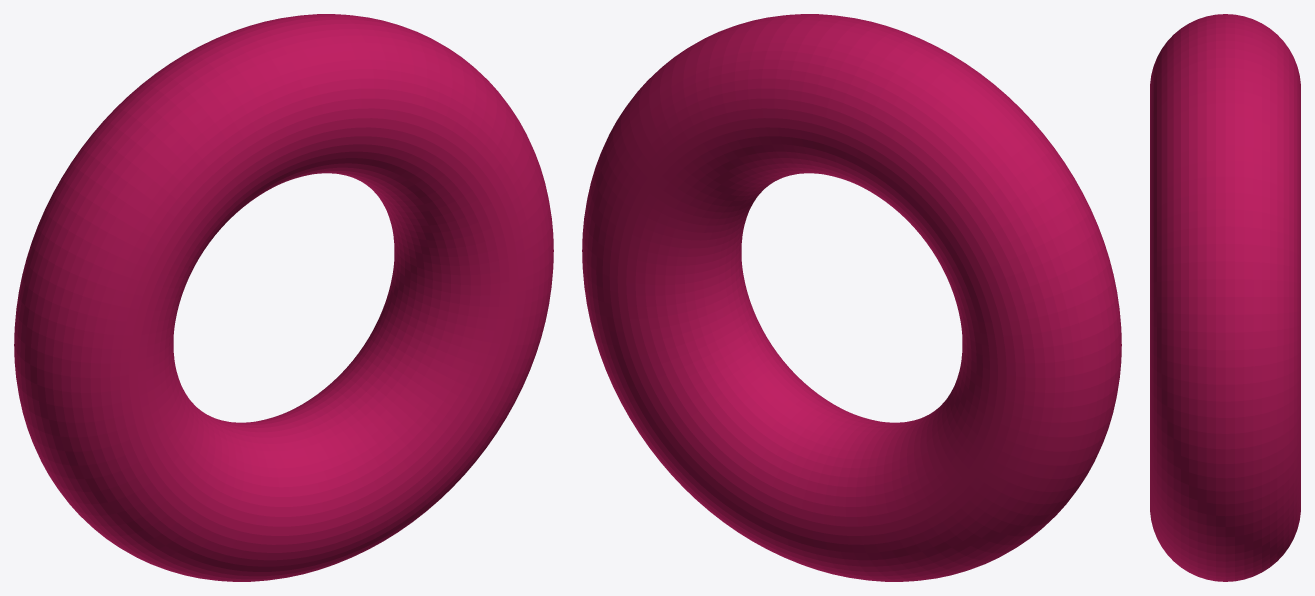
3 renders of one model, left to right at view 1: azimuth 30°, elevation 25°; view 2: azimuth 150°, elevation 25°; view 3: azimuth 270°, elevation 25°, orthographic. The views are drawn at different scales.
Visible parts, largest first — view 1: world; view 2: world; view 3: world.
Boxes of the visible parts, x1,y1,x2,y2 form: world: (14,14,553,581); world: (582,14,1121,581); world: (1150,14,1300,581).
Size of the model in its own units: 24.53 by 24.53 by 6.52.
